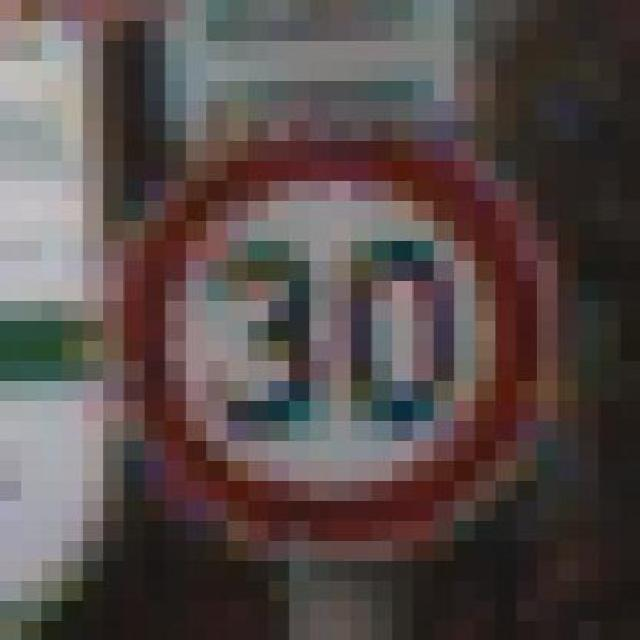Speed Limit 30 KMPh: (41, 120, 599, 580)
